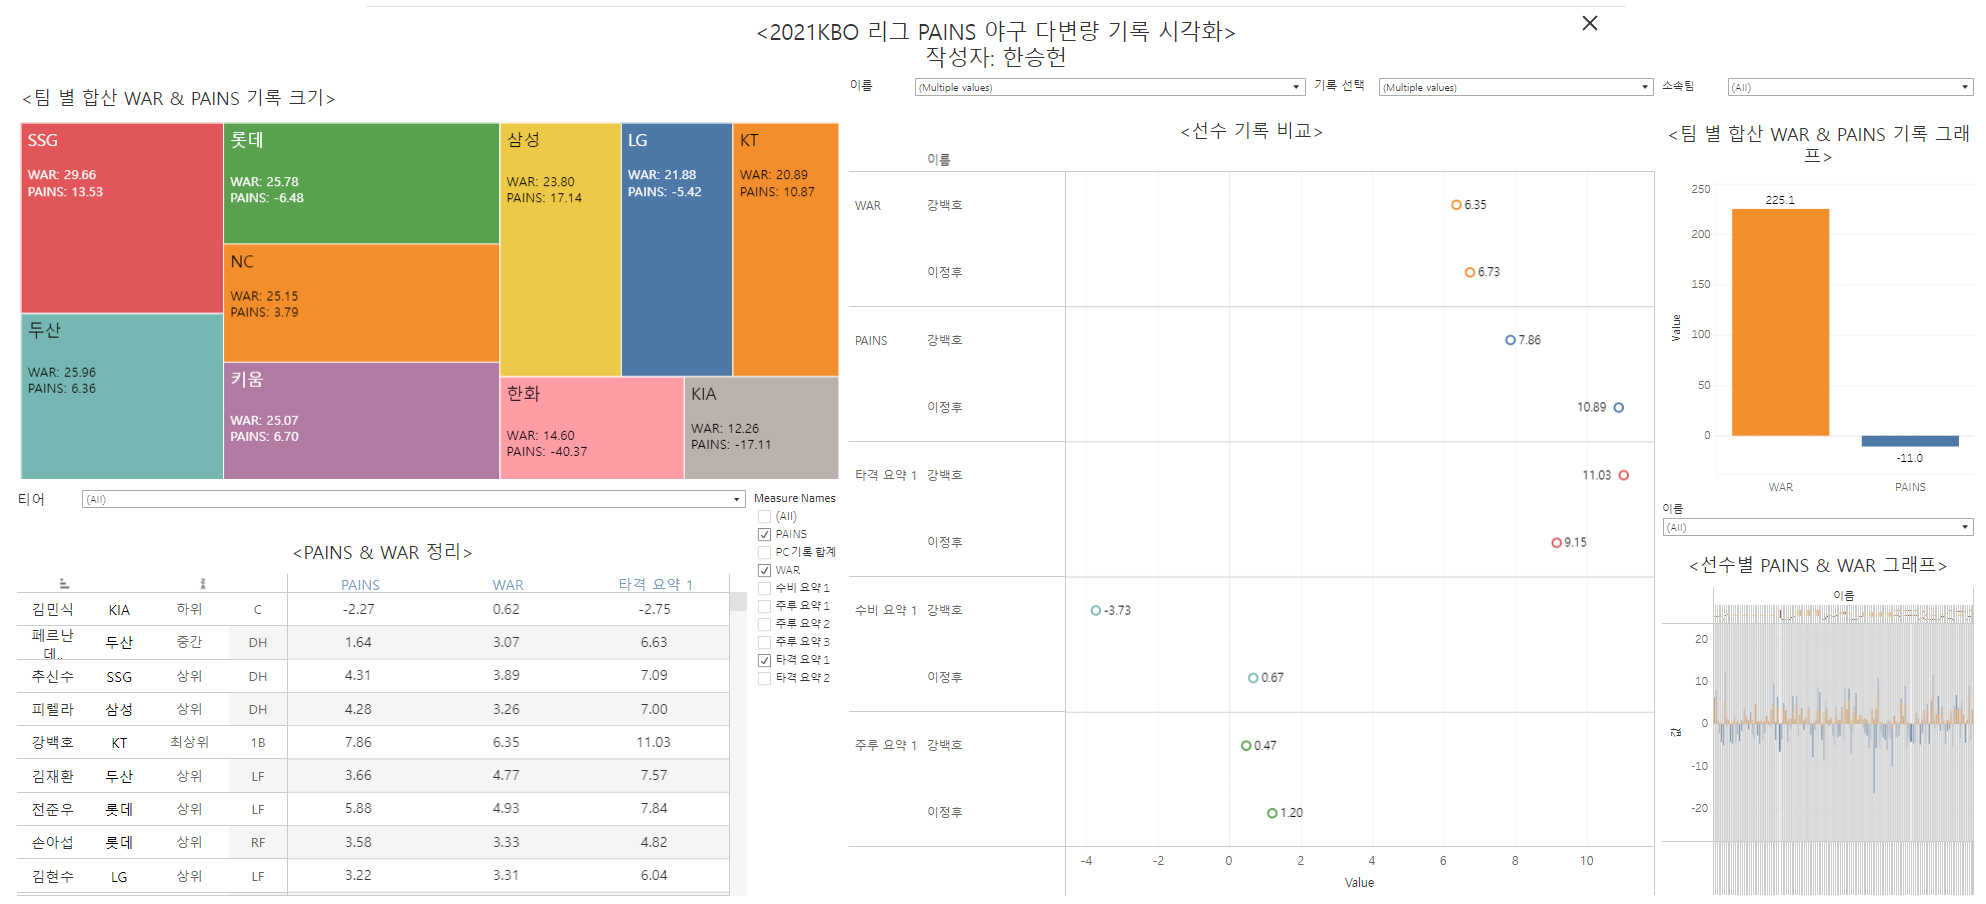

What the dashboard file says about the page in this screenshot:
{"tool":"tableau","page":{"name":"대시보드 1","canvas":[2200,1000],"ordinal":0},"visuals":[{"type":"dashboard-object","box":[1748,6,24,24]},{"type":"filter","title":"시트 5","param":"[federated.1003glf0jewpdz14zxjh61fw40j9].[none:Name:nk]","box":[8,8,461.4,48]},{"type":"filter","title":"시트 5","param":"[federated.1003glf0jewpdz14zxjh61fw40j9].[:Measure Names]","box":[469.5,8,353.5,48]},{"type":"worksheet","title":"시트 1","mark":"Automatic","box":[823,8,958.4,504]},{"type":"filter","title":"시트 2","param":"[federated.1003glf0jewpdz14zxjh61fw40j9].[none:Team:nk]","box":[1781.4,8,410.6,40]},{"type":"worksheet","title":"시트 2","mark":"Automatic","box":[1781.4,48,410.6,464]},{"type":"worksheet","title":"시트 5","mark":"Shape","rows":["Name"],"box":[8,56,815,936]},{"type":"filter","title":"시트 4","param":"[federated.1003glf0jewpdz14zxjh61fw40j9].[티어 (그룹)]","box":[823,512,805.6,38]},{"type":"filter","title":"시트 4","param":"[federated.1003glf0jewpdz14zxjh61fw40j9].[:Measure Names]","box":[1628.6,512,152.8,480]},{"type":"filter","title":"시트 3","param":"[federated.1003glf0jewpdz14zxjh61fw40j9].[none:Name:nk]","box":[1781.4,512,410.6,53]},{"type":"worksheet","title":"시트 4","mark":"Automatic","rows":["Name","Team","Position"],"box":[823,550,805.6,442]},{"type":"worksheet","title":"시트 3","mark":"Automatic","cols":["Name"],"box":[1781.4,565,410.6,427]}]}

Visuals, with their boxes in screenshot pixels (x1, y1, x2, y2), scaled from the page's 2200x1000 canvas onto the 1986x904 screenshot:
dashboard-object: select_region(1578, 5, 1600, 27)
"시트 5" filter: select_region(7, 7, 424, 51)
"시트 5" filter: select_region(424, 7, 743, 51)
"시트 1" worksheet: select_region(743, 7, 1608, 463)
"시트 2" filter: select_region(1608, 7, 1979, 43)
"시트 2" worksheet: select_region(1608, 43, 1979, 463)
"시트 5" worksheet (Shape marks): select_region(7, 51, 743, 897)
"시트 4" filter: select_region(743, 463, 1470, 497)
"시트 4" filter: select_region(1470, 463, 1608, 897)
"시트 3" filter: select_region(1608, 463, 1979, 511)
"시트 4" worksheet: select_region(743, 497, 1470, 897)
"시트 3" worksheet: select_region(1608, 511, 1979, 897)
